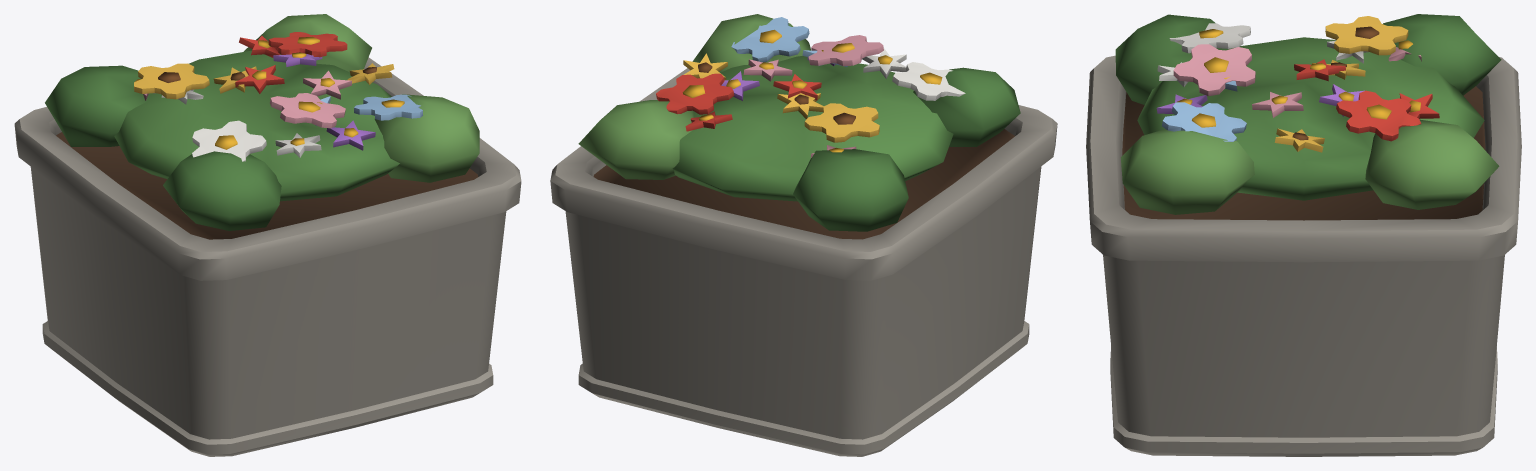
Rendered from flowerTub.glb.
The picture shows the model from 3 angles, left to right: view 1: azimuth 30°, elevation 25°; view 2: azimuth 150°, elevation 25°; view 3: azimuth 270°, elevation 25°; orthographic projection. The views are drawn at different scales.
Visible parts, largest first — view 1: flowerTub; view 2: flowerTub; view 3: flowerTub.
Part boxes in pixels (x1,y1,x2,y2): flowerTub: [14, 14, 521, 456]; flowerTub: [550, 14, 1057, 456]; flowerTub: [1086, 14, 1521, 456].
Bounding box in the file's own units: 0.7 × 0.5626 × 0.7.
